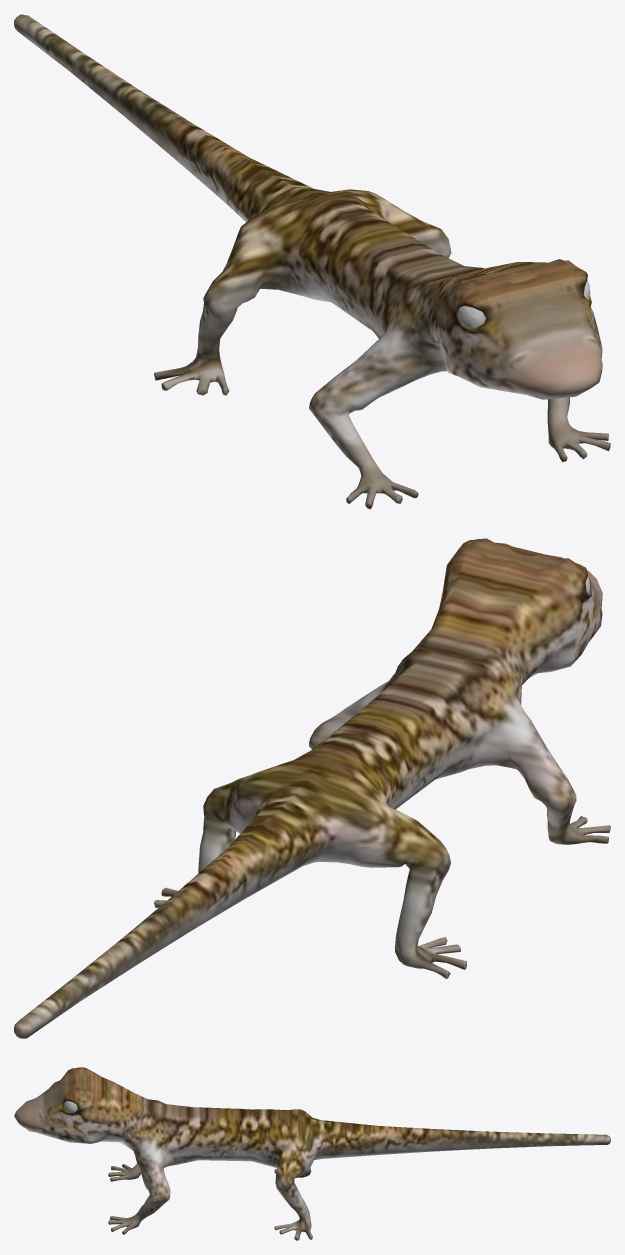
3 views of the same model, one above another, from view 1: azimuth 30°, elevation 25°; view 2: azimuth 150°, elevation 25°; view 3: azimuth 270°, elevation 25° (orthographic). The views are drawn at different scales.
Parts seen in each view (by area): view 1: Object_7; view 2: Object_7; view 3: Object_7.
Part boxes in pixels (bbox=[...]): Object_7: bbox=[14, 14, 610, 509]; Object_7: bbox=[14, 538, 610, 1038]; Object_7: bbox=[14, 1067, 610, 1240].
Size of the model in its own units: 0.7792 by 0.5688 by 2.5.
3 materials, 2 textured.
